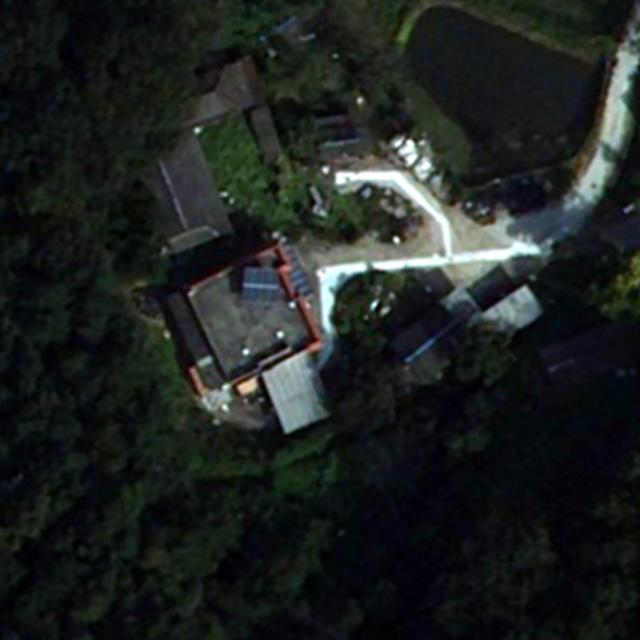panel: (241, 265, 280, 303)
